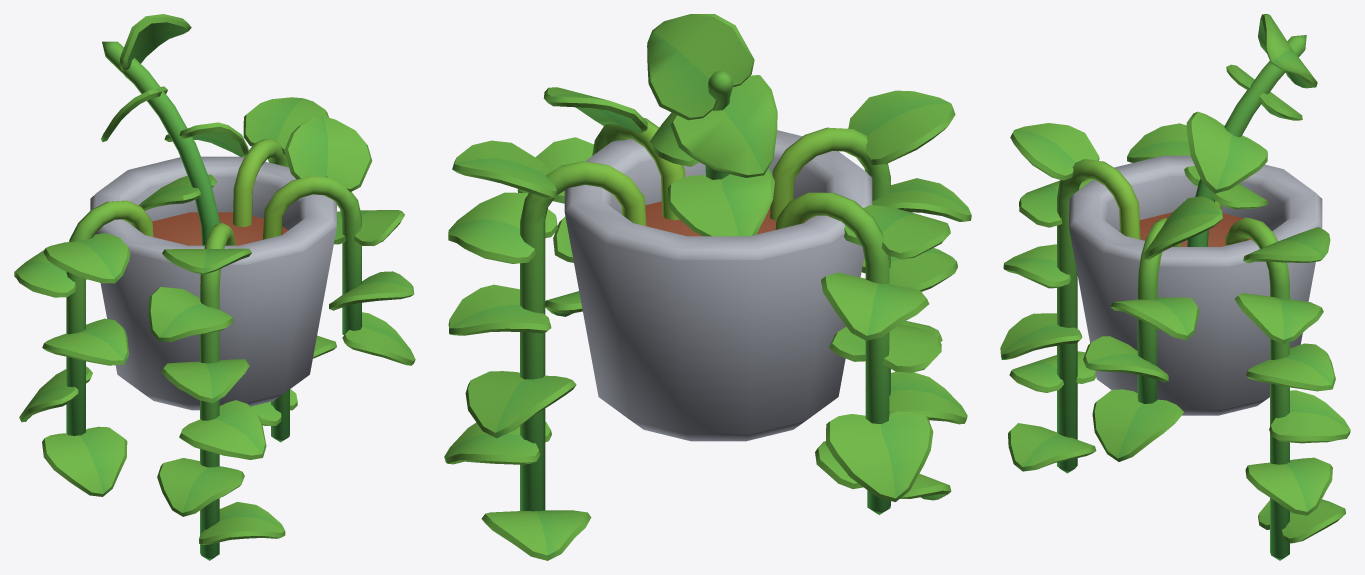
File: Pothos Plant Medium.glb
The picture shows the model from 3 angles, left to right: view 1: azimuth 30°, elevation 25°; view 2: azimuth 150°, elevation 25°; view 3: azimuth 270°, elevation 25°; orthographic projection. The views are drawn at different scales.
Parts seen in each view (by area): view 1: pothos_plant_medium_potted; view 2: pothos_plant_medium_potted; view 3: pothos_plant_medium_potted.
Part boxes in pixels (left/top/right/bottom): pothos_plant_medium_potted: left=14, top=14, right=415, bottom=560; pothos_plant_medium_potted: left=444, top=14, right=971, bottom=560; pothos_plant_medium_potted: left=1000, top=14, right=1350, bottom=560.
Size of the model in its own units: 1.62 by 2.05 by 1.37.
Materials: 1 (1 with a texture image).
